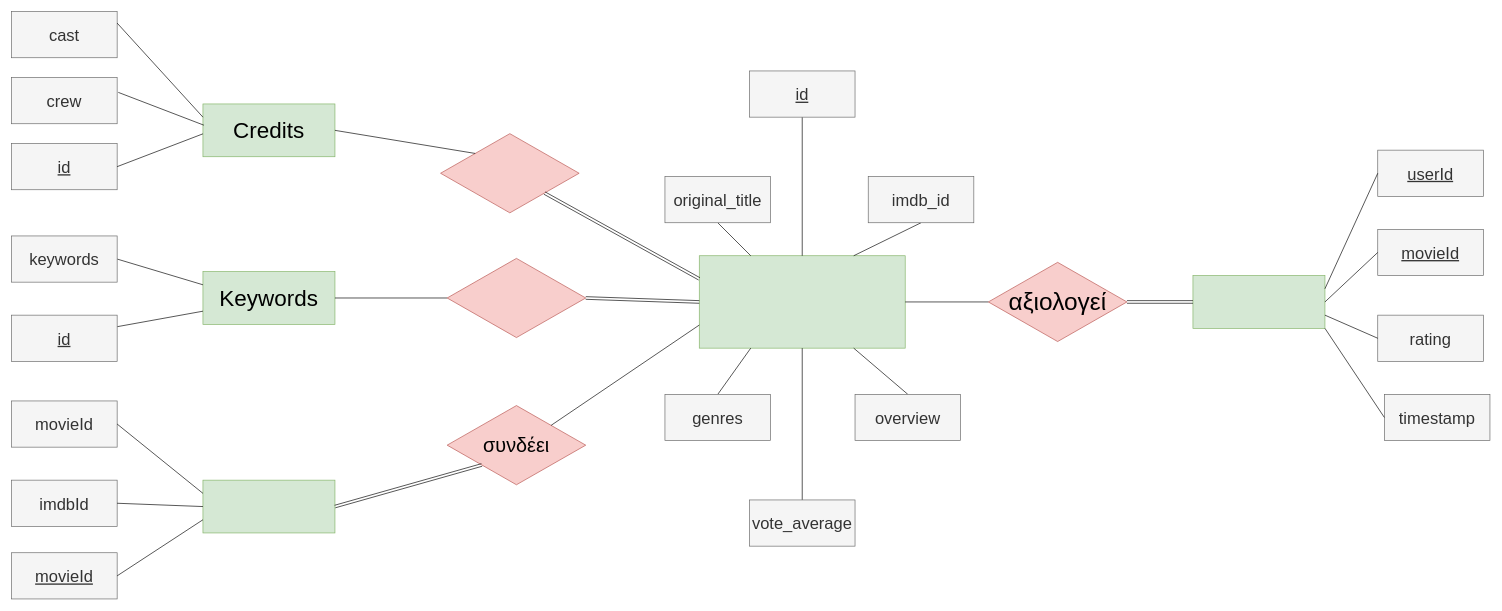
Image size: 1502x611. Some labels were removed from this diagram. Here are the shapes that lost their labels. From the top down, the centre of each, then its label:
pixel 509 173: συντέλεσαν
pixel 516 298: χαρακτηρίζει
pixel 802 301: Movie_Metadata
pixel 1258 301: Ratings
pixel 268 506: Links
